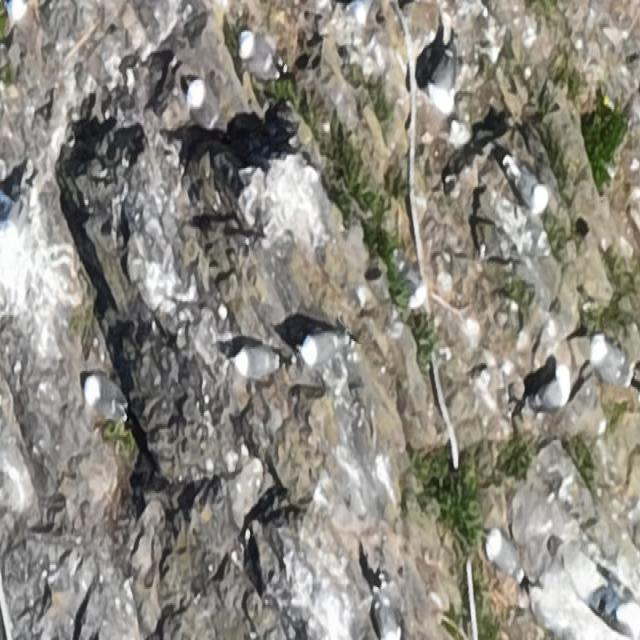umineko: (500, 153, 556, 223), (425, 36, 461, 116), (532, 363, 576, 420), (588, 338, 635, 390), (81, 371, 130, 420), (296, 331, 348, 372), (486, 528, 525, 581), (234, 35, 283, 77), (368, 580, 402, 637), (4, 183, 32, 249), (188, 79, 216, 129), (231, 350, 277, 376)
